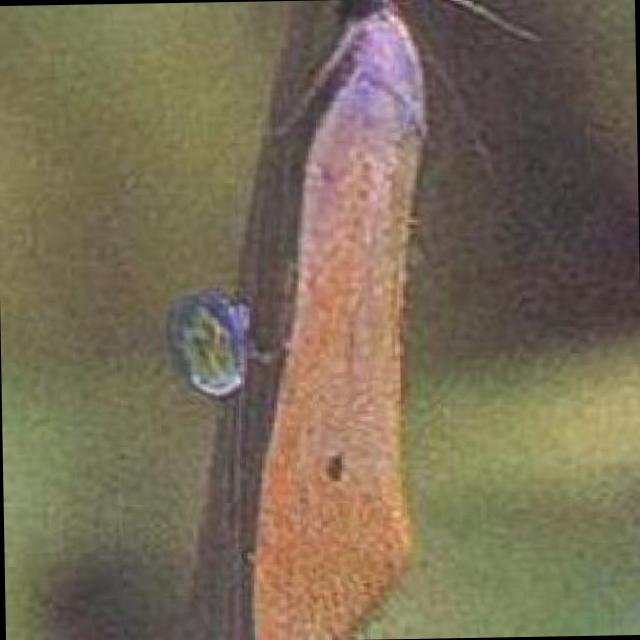stem-borer: (248, 0, 452, 640)
